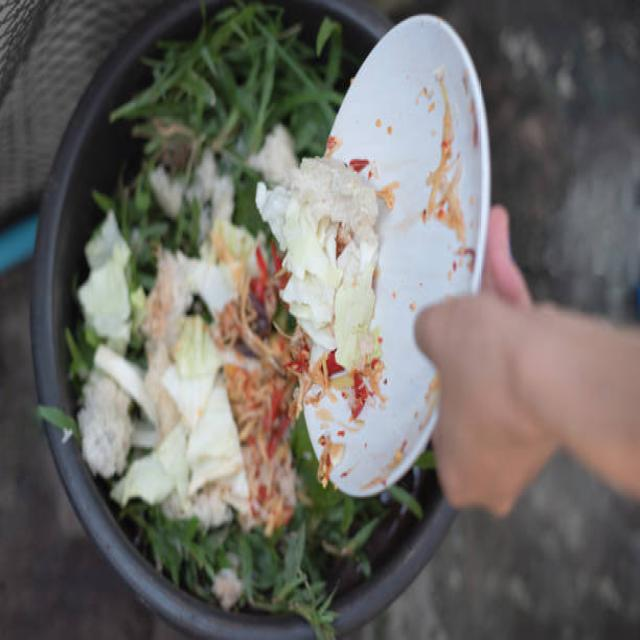trash: (18, 19, 455, 621)
